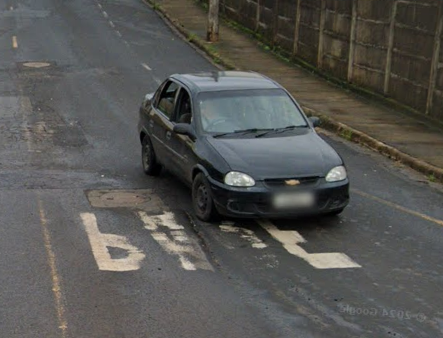car: (134, 66, 354, 231)
